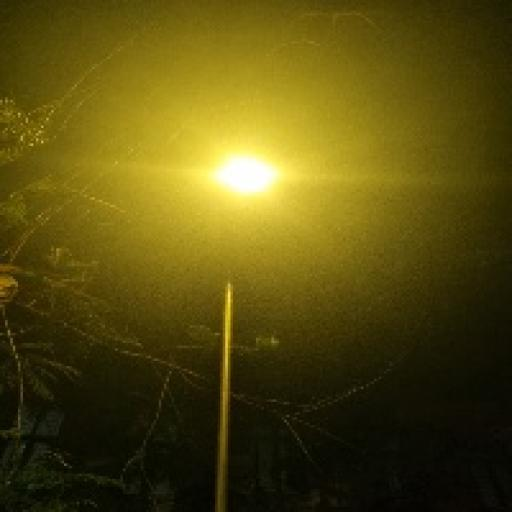Working: (204, 136, 290, 222)
